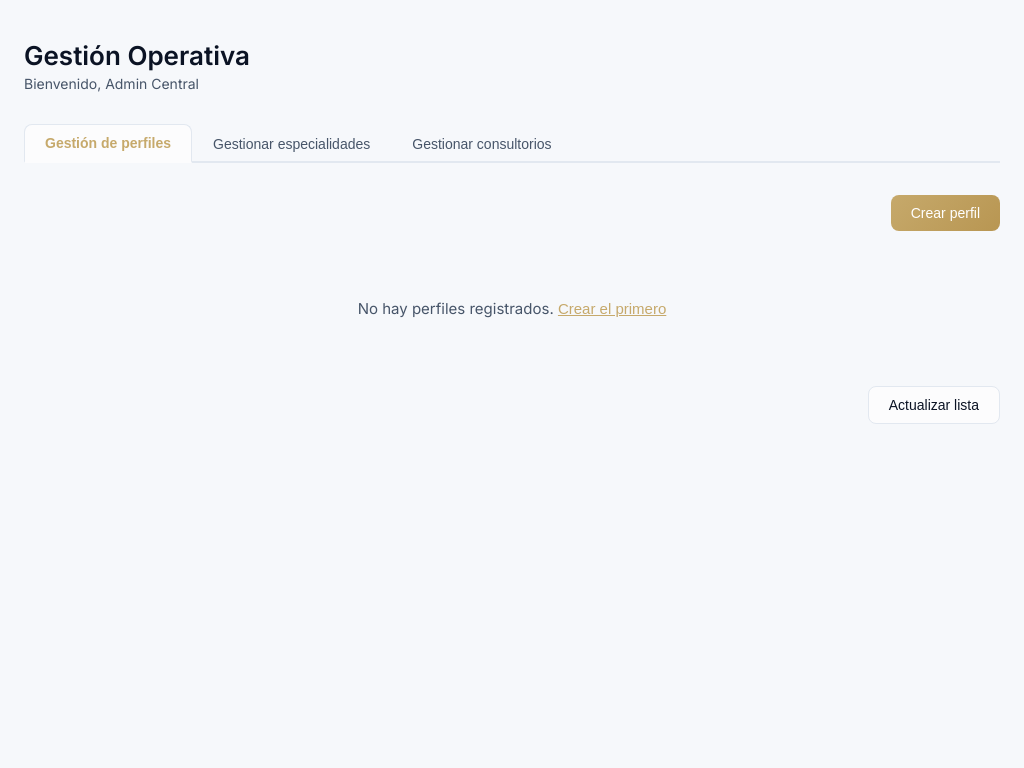
AdminProfilesPage SPEC-017 exclusive mode navigation › switches to office mode and hides profile and specialty views
What coordinates should you click on to do the following:
click the button with test id "btn-mode-offices"
I would click on:
 (482, 144)
Its box is [391,124,573,163].
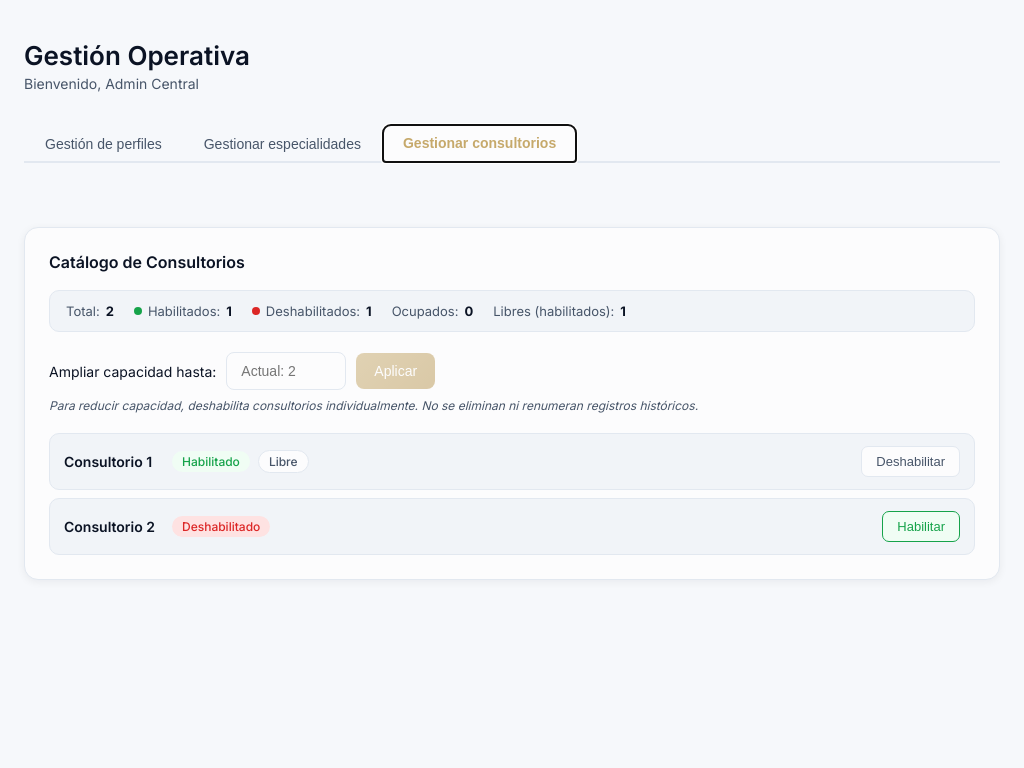
Result: the element with test id "office-manager" is shown at [24,227,1000,580]
Result: the element with test id "office-summary" shows "Total: 2" at [49,290,975,332]
Result: the button with test id "btn-create-profile" is gone
